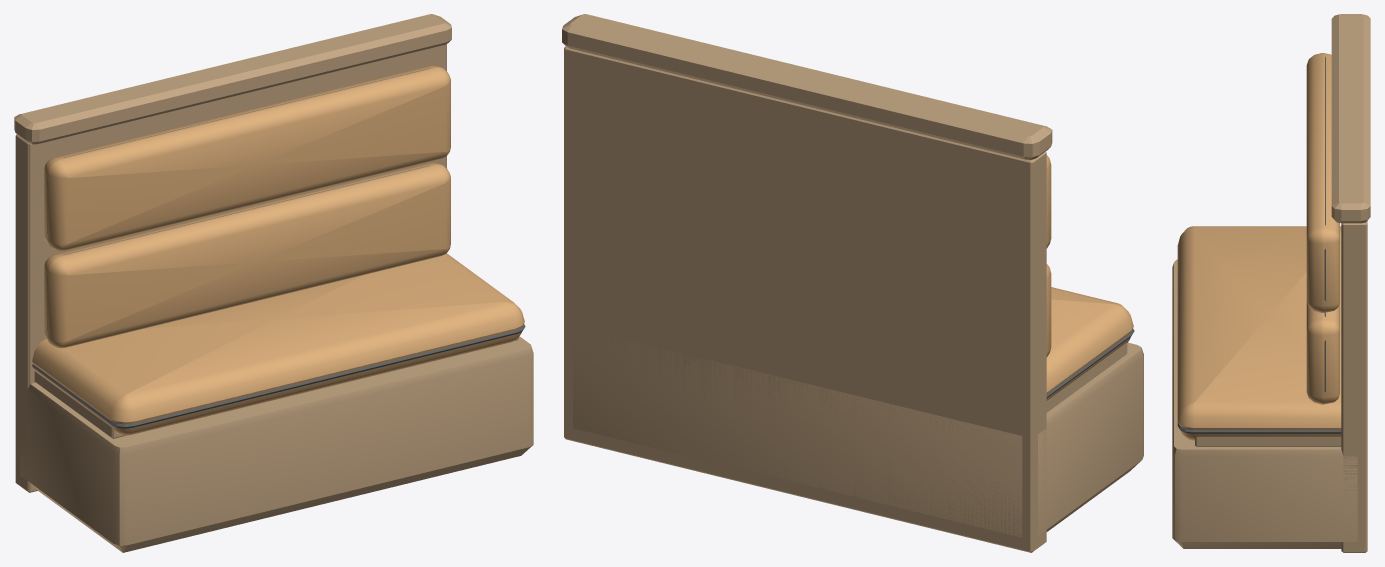
The model's file is bakery-and-cafe-banquette-run-1400-tan-d7958e06__22204.glb.
3 views of the same model, side by side, from view 1: azimuth 30°, elevation 25°; view 2: azimuth 150°, elevation 25°; view 3: azimuth 270°, elevation 25° (orthographic). The views are drawn at different scales.
Parts seen in each view (by area): view 1: banquette-run-1400-tan; view 2: banquette-run-1400-tan; view 3: banquette-run-1400-tan.
Boxes of the visible parts, box(x1,y1,x2,y2) form: banquette-run-1400-tan: box(14, 14, 533, 552); banquette-run-1400-tan: box(562, 14, 1143, 552); banquette-run-1400-tan: box(1172, 14, 1370, 552).
Size of the model in its own units: 1.42 by 1.18 by 0.61.
